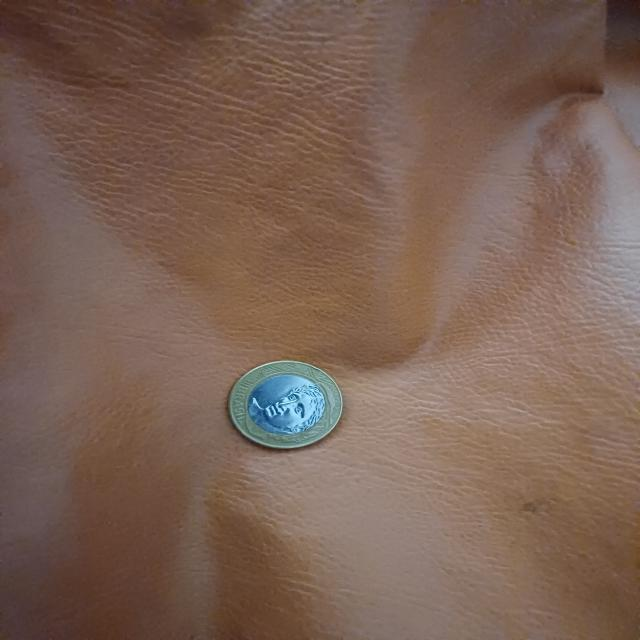1 real: (223, 357, 347, 454)
